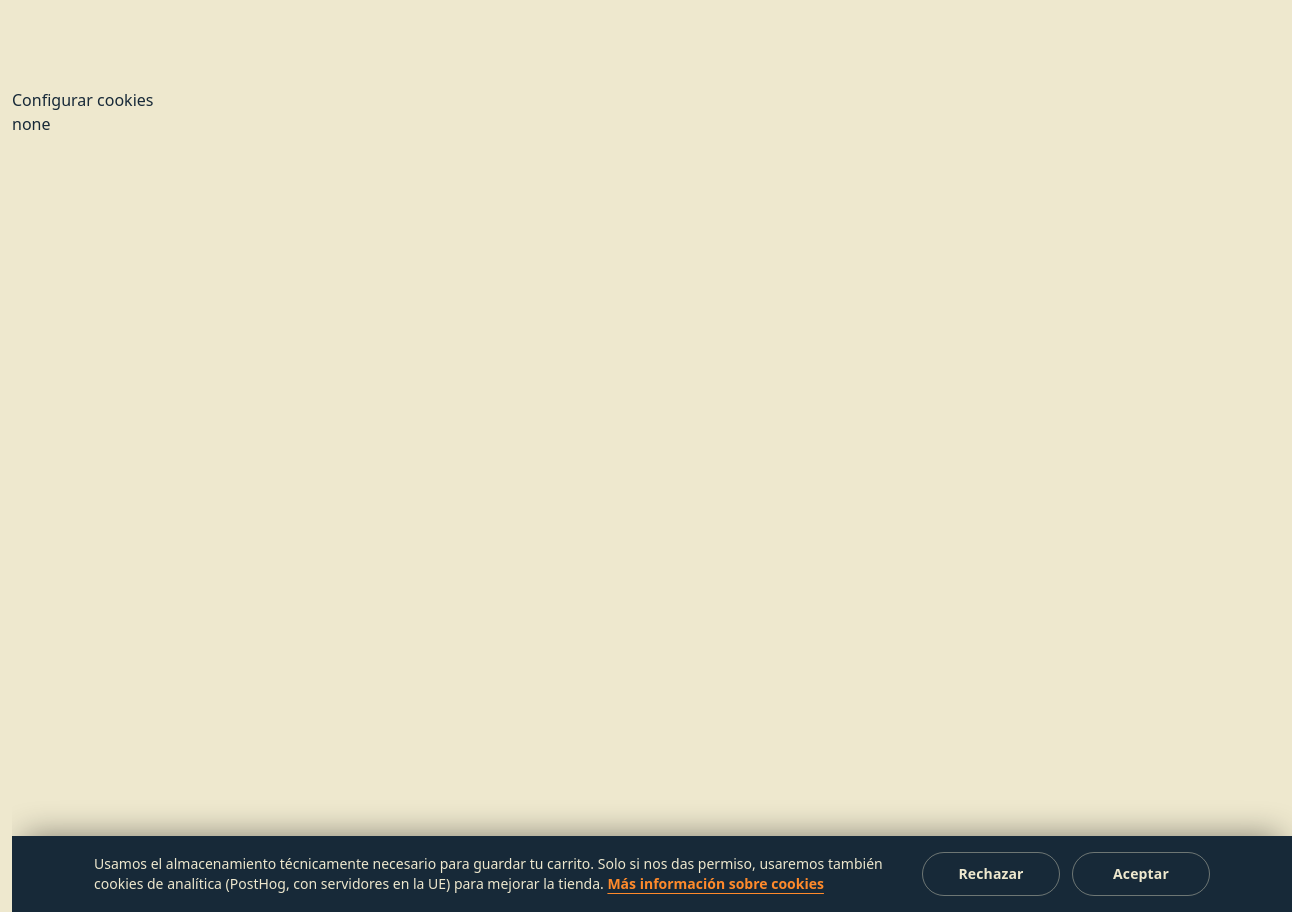
it: ConsentBanner › stores acceptance, enables analytics and hides the banner
Click the button "Aceptar" at (1141,874), box [1072, 852, 1210, 896]
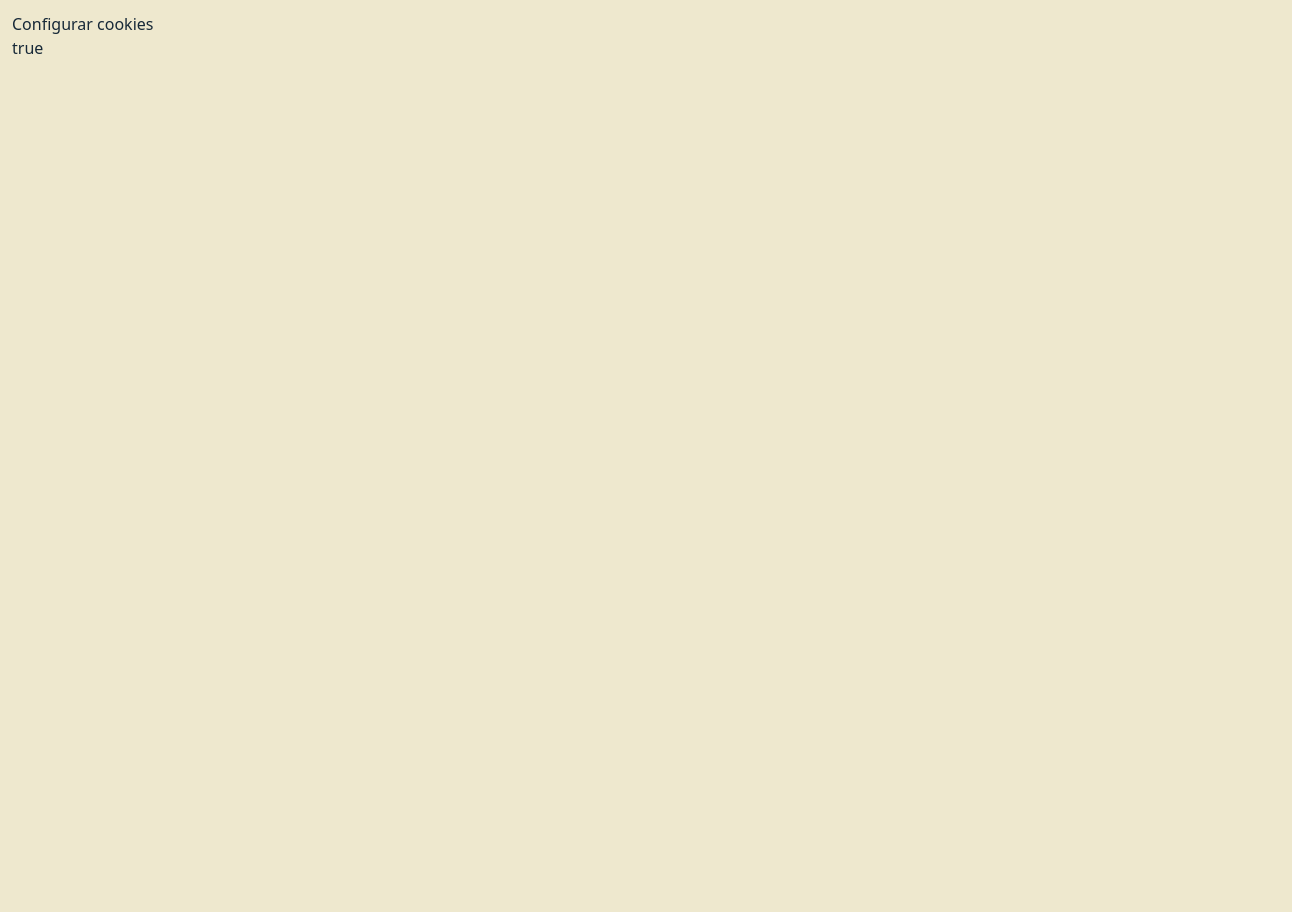
expect the text with test id "decision" reads "true": met, box [12, 37, 43, 59]
